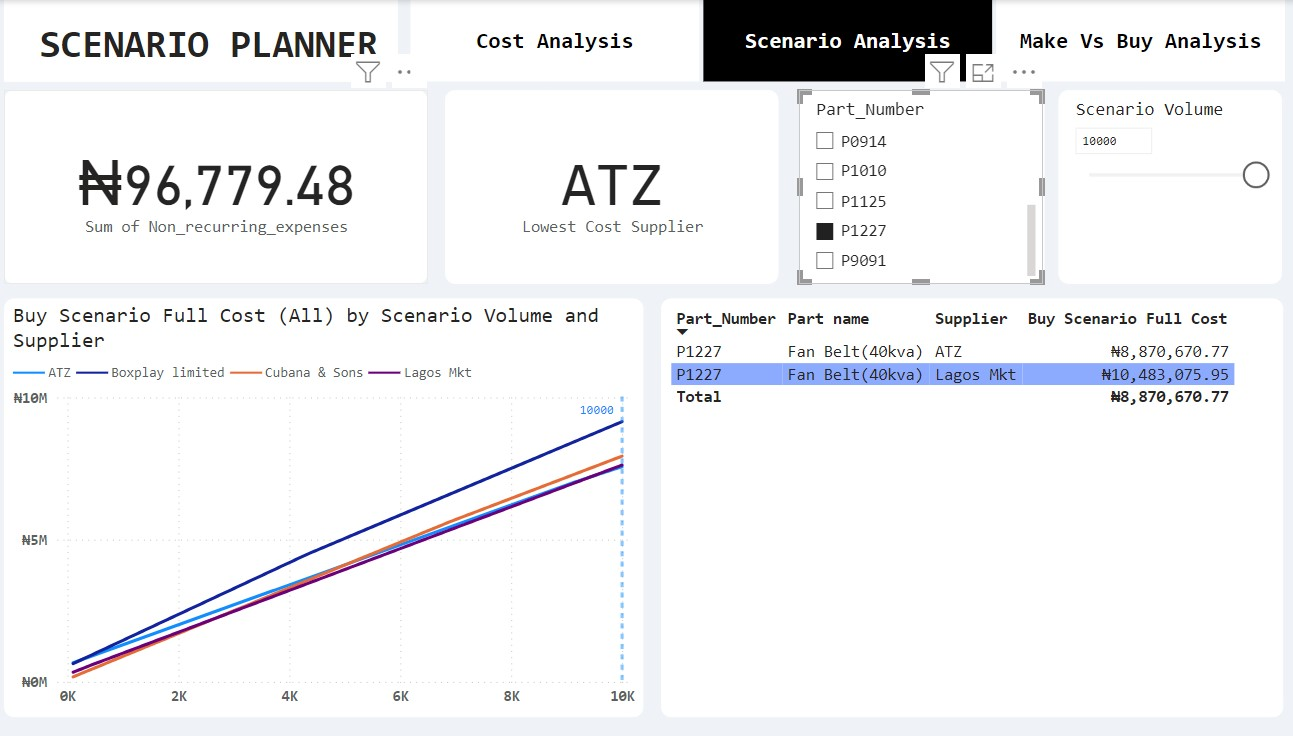

The dashboard page shown, as its layout file describes it:
{"tool":"powerbi","page":{"name":"Scenario Analysis","canvas":[1280,720],"ordinal":1},"visuals":[{"type":"slicer","fields":{"Values":["Scenario Volume.Scenario Volume"]},"box":[1043.6,87.4,216.8,187.7],"z":0},{"type":"textbox","box":[21,0,381.8,79.3],"z":1000},{"type":"slicer","fields":{"Values":["Quote.Part_Number"]},"box":[791.2,87.4,237.8,187.7],"z":2000},{"type":"card","fields":{"Values":["Sum(Quote.Non_recurring_expenses)"]},"box":[21,87.4,411,187.7],"z":3000},{"type":"lineChart","fields":{"Category":["Scenario Volumes (All).Scenario Volume"],"Y":["Scenario Volumes (All).Full Cost (All)"],"Series":["Quote.Supplier"]},"box":[21,289.6,619.7,406.1],"z":4000},{"type":"tableEx","fields":{"Values":["Quote.Part_Number","Quote.Part name","Quote.Supplier","Scenario Volume.Scenario Full Cost"]},"box":[656.9,289.6,603.5,406.1],"z":5000},{"type":"card","fields":{"Values":["Min(Quote.Supplier)"]},"box":[448.2,87.4,323.6,187.7],"z":6000},{"type":"pageNavigator","box":[414.2,0,849.4,79.3],"z":7000}]}

Visuals, with their boxes in screenshot pixels (x1, y1, x2, y2), scaled from the page's 1280x720 canvas onto the 1293x736 screenshot:
slicer - Scenario Volume.Scenario Volume: Rect(1054, 89, 1273, 281)
textbox: Rect(21, 0, 407, 81)
slicer - Quote.Part_Number: Rect(799, 89, 1039, 281)
card - Sum(Quote.Non_recurring_expenses): Rect(21, 89, 436, 281)
lineChart - Scenario Volumes (All).Scenario Volume x Scenario Volumes (All).Full Cost (All): Rect(21, 296, 647, 711)
tableEx - Quote.Part_Number x Quote.Part name: Rect(664, 296, 1273, 711)
card - Min(Quote.Supplier): Rect(453, 89, 780, 281)
pageNavigator: Rect(418, 0, 1276, 81)
